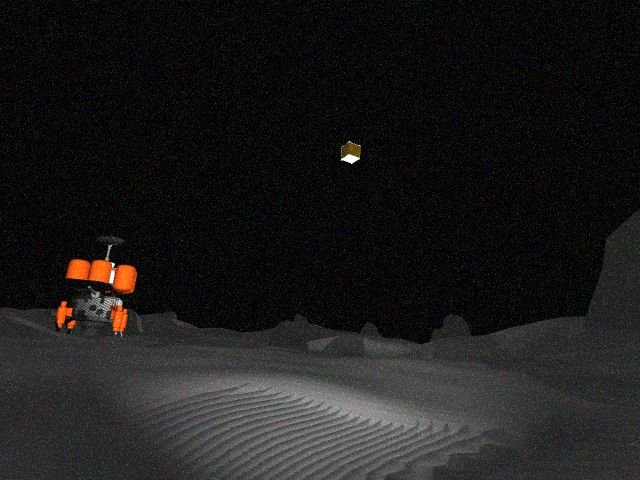homebase: (51, 232, 141, 340)
